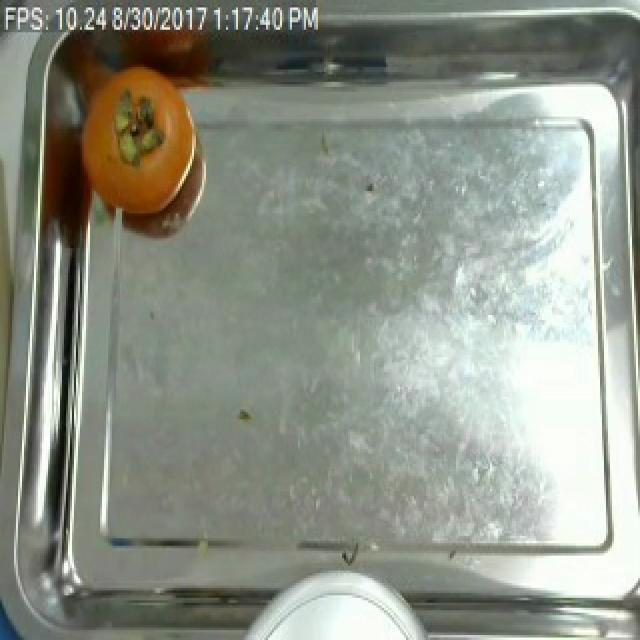Fruit: (62, 52, 204, 231)
